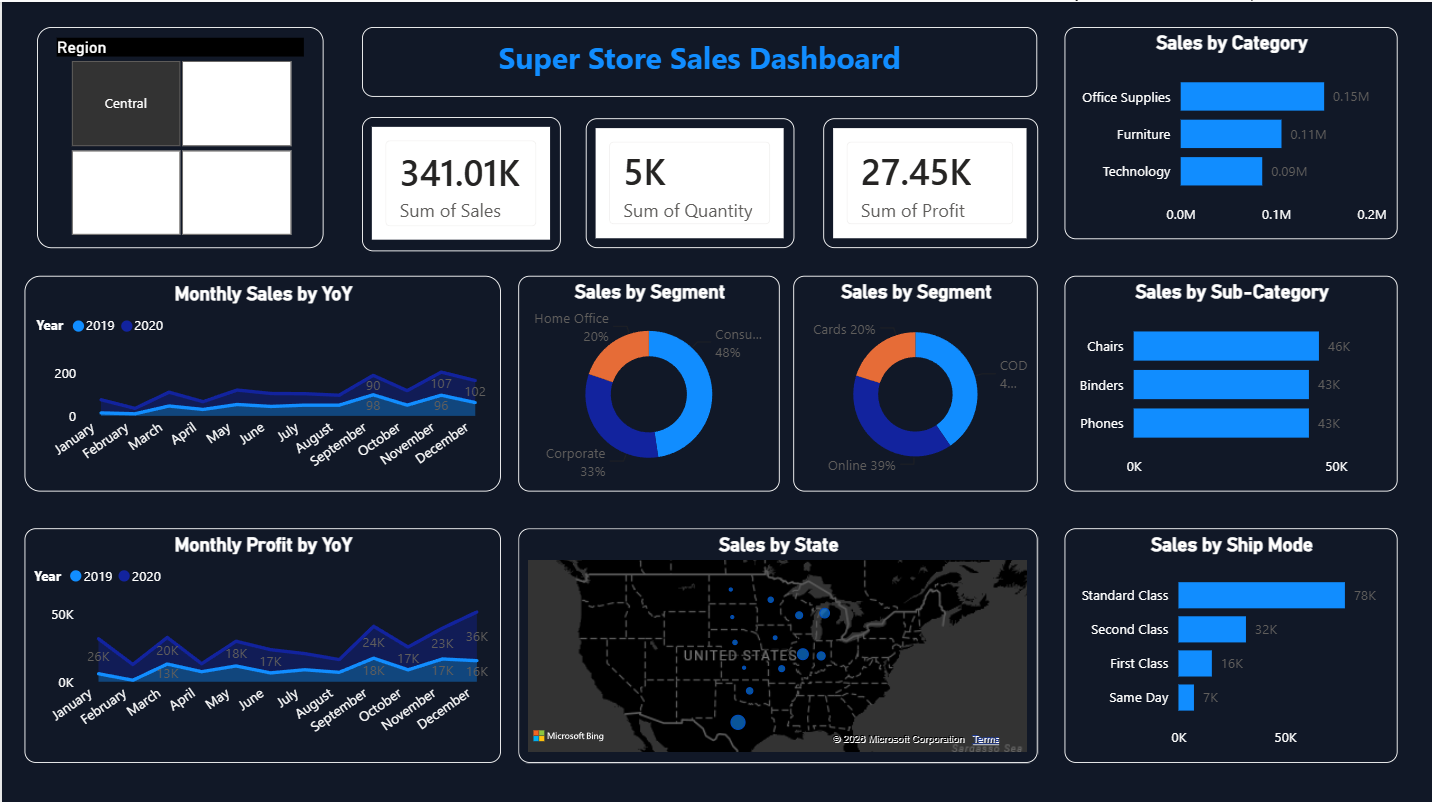

The dashboard page shown, as its layout file describes it:
{"tool":"powerbi","page":{"name":"Page 1","canvas":[1280,720],"ordinal":0},"visuals":[{"type":"clusteredBarChart","title":"Sales by Category","fields":{"Category":["SuperStore_Sales_Dataset.Category"],"Y":["Sum(SuperStore_Sales_Dataset.Sales)"]},"box":[948.8,22.1,297.7,189.5],"z":0},{"type":"clusteredBarChart","title":"Sales by Sub-Category","fields":{"Category":["SuperStore_Sales_Dataset.Sub-Category"],"Y":["Sum(SuperStore_Sales_Dataset.Sales)"]},"box":[948.8,244.2,297.7,193],"z":1000},{"type":"clusteredBarChart","title":"Sales by Ship Mode","fields":{"Category":["SuperStore_Sales_Dataset.Ship Mode"],"Y":["Sum(SuperStore_Sales_Dataset.Sales)"]},"box":[948.8,469.8,297.7,209.3],"z":2000},{"type":"stackedAreaChart","title":"Monthly Profit by YoY","fields":{"Category":["SuperStore_Sales_Dataset.Order Date.Variation.Date Hierarchy.Month"],"Y":["Sum(SuperStore_Sales_Dataset.Sales)"],"Series":["SuperStore_Sales_Dataset.Order Date.Variation.Date Hierarchy.Year"]},"box":[19.8,469.8,425.6,209.3],"z":3000},{"type":"stackedAreaChart","title":"Monthly Sales by YoY","fields":{"Category":["SuperStore_Sales_Dataset.Order Date.Variation.Date Hierarchy.Month"],"Series":["SuperStore_Sales_Dataset.Order Date.Variation.Date Hierarchy.Year"],"Y":["CountNonNull(SuperStore_Sales_Dataset.Product Name)"]},"box":[19.8,244.2,425.6,193],"z":4000},{"type":"map","title":"Sales by State","fields":{"Category":["SuperStore_Sales_Dataset.State"],"Size":["Sum(SuperStore_Sales_Dataset.Sales)"]},"box":[461.6,469.8,464,209.3],"z":5000},{"type":"donutChart","title":"Sales by Segment","fields":{"Category":["SuperStore_Sales_Dataset.Segment"],"Y":["Sum(SuperStore_Sales_Dataset.Sales)"]},"box":[461.6,244.2,233.7,193],"z":6000},{"type":"donutChart","title":"Sales by Segment","fields":{"Category":["SuperStore_Sales_Dataset.Payment Mode"],"Y":["Sum(SuperStore_Sales_Dataset.Sales)"]},"box":[707,244.2,218.6,193],"z":7000},{"type":"slicer","fields":{"Values":["SuperStore_Sales_Dataset.Region"]},"box":[31.4,22.1,255.8,197.7],"z":8000},{"type":"textbox","box":[322.1,22.1,603.5,62.8],"z":9000},{"type":"cardVisual","title":"Sales","fields":{"Data":["Sum(SuperStore_Sales_Dataset.Sales)"]},"box":[322.1,102.3,177.9,119.8],"z":10000},{"type":"cardVisual","fields":{"Data":["Sum(SuperStore_Sales_Dataset.Quantity)"]},"box":[520.9,103.5,186,116.3],"z":11000},{"type":"cardVisual","fields":{"Data":["Sum(SuperStore_Sales_Dataset.Profit)"]},"box":[733.7,103.5,191.9,116.3],"z":11001}]}

Visuals, with their boxes in screenshot pixels (x1, y1, x2, y2), scaled from the page's 1280x720 canvas onto the 1432x802 screenshot:
"Sales by Category" clusteredBarChart: bbox(1061, 25, 1395, 236)
"Sales by Sub-Category" clusteredBarChart: bbox(1061, 272, 1395, 487)
"Sales by Ship Mode" clusteredBarChart: bbox(1061, 523, 1395, 756)
"Monthly Profit by YoY" stackedAreaChart: bbox(22, 523, 498, 756)
"Monthly Sales by YoY" stackedAreaChart: bbox(22, 272, 498, 487)
"Sales by State" map: bbox(516, 523, 1036, 756)
"Sales by Segment" donutChart: bbox(516, 272, 778, 487)
"Sales by Segment" donutChart: bbox(791, 272, 1036, 487)
slicer - SuperStore_Sales_Dataset.Region: bbox(35, 25, 321, 245)
textbox: bbox(360, 25, 1036, 95)
"Sales" cardVisual: bbox(360, 114, 559, 247)
cardVisual - Sum(SuperStore_Sales_Dataset.Quantity): bbox(583, 115, 791, 245)
cardVisual - Sum(SuperStore_Sales_Dataset.Profit): bbox(821, 115, 1036, 245)
